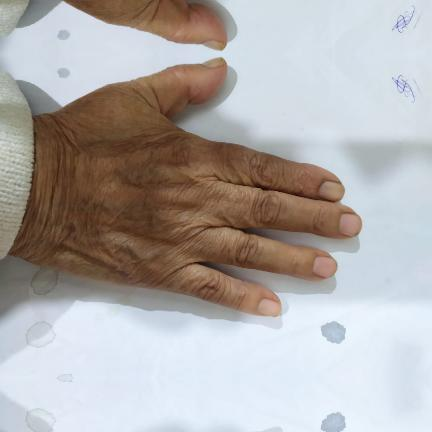Nail: (318, 181, 345, 202), (339, 213, 362, 237), (312, 256, 338, 277), (258, 298, 282, 317), (203, 57, 224, 68), (203, 40, 224, 51)
